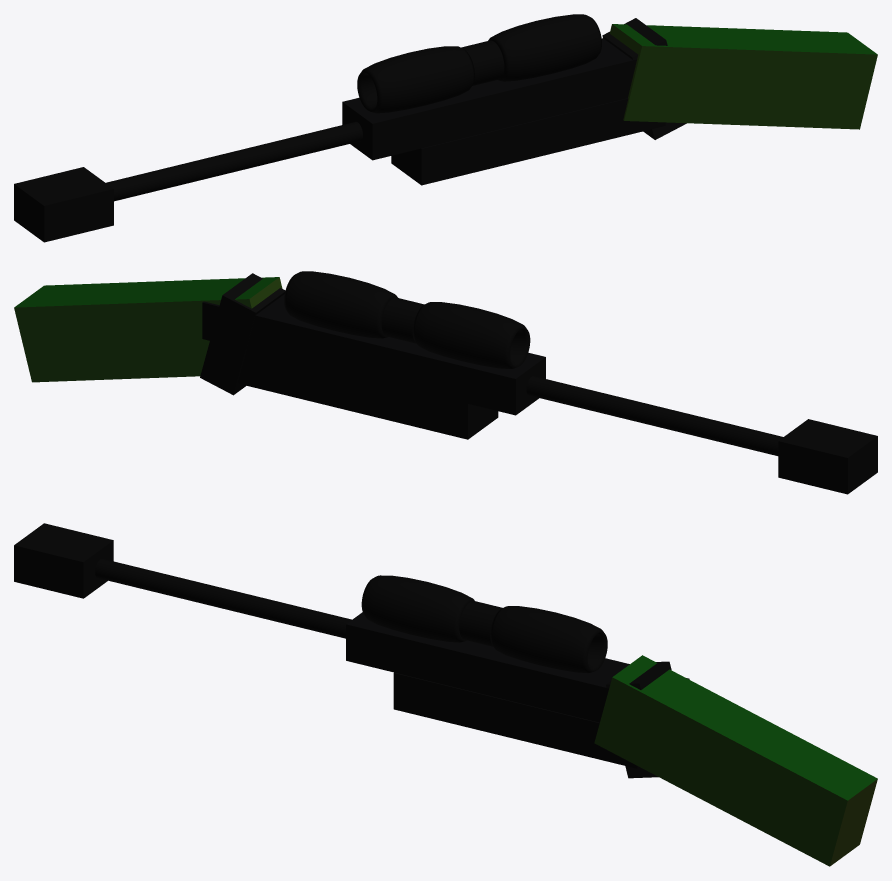
3 views of the same model, one above another, from view 1: azimuth 30°, elevation 25°; view 2: azimuth 150°, elevation 25°; view 3: azimuth 330°, elevation 25° (orthographic).
Size of the model in its own units: 4.78 by 0.9144 by 0.3221.
